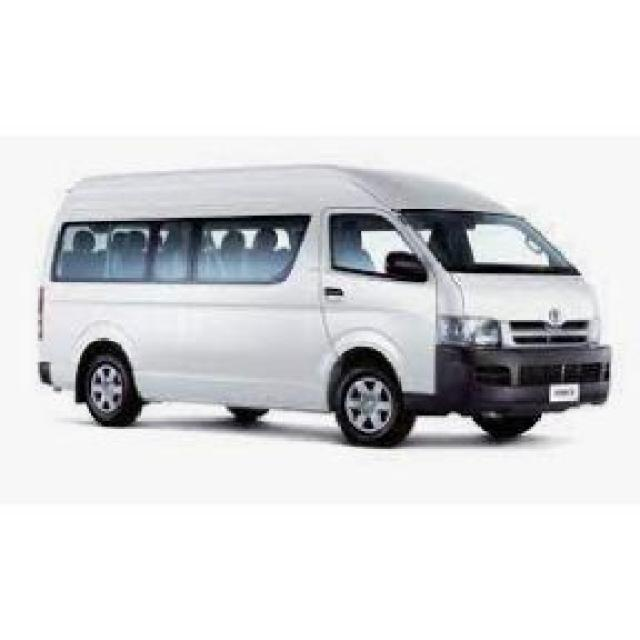Van: (35, 167, 616, 448)
